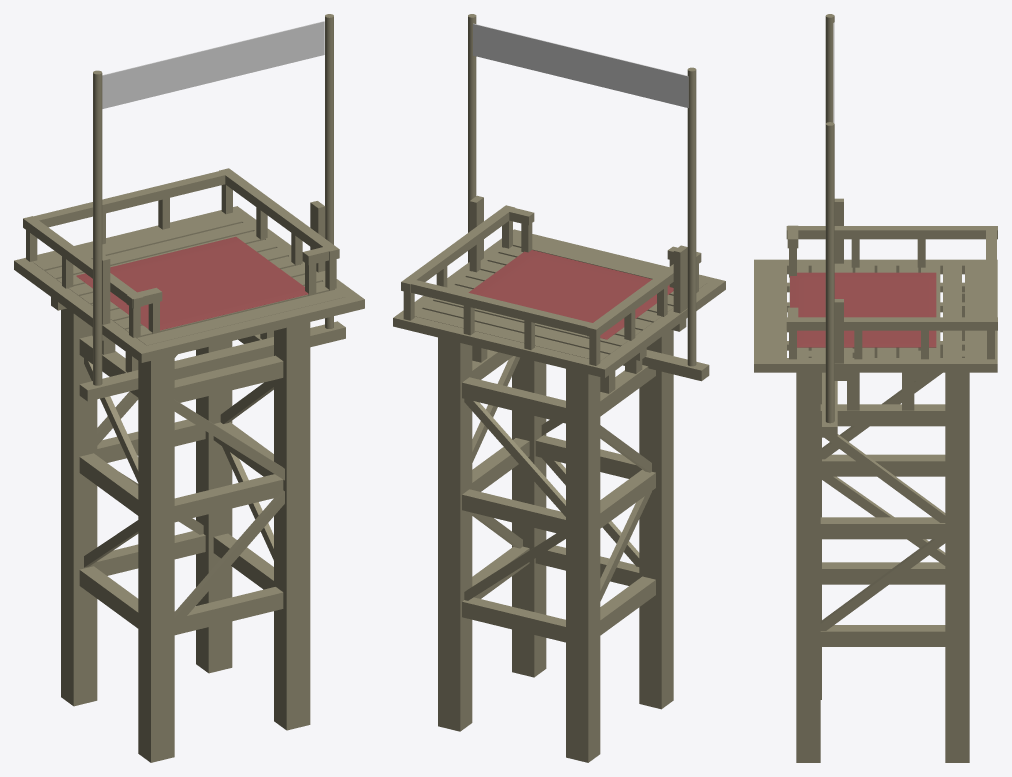
File: goalRough4.fbx
3 renders of one model, left to right at view 1: azimuth 30°, elevation 25°; view 2: azimuth 150°, elevation 25°; view 3: azimuth 270°, elevation 25°, orthographic. The views are drawn at different scales.
Visible parts, largest first — view 1: pCube76; view 2: pCube76; view 3: pCube76.
Boxes of the visible parts, x1=… form: pCube76: x1=14, y1=14, x2=364, y2=762; pCube76: x1=393, y1=14, x2=725, y2=762; pCube76: x1=754, y1=14, x2=997, y2=762.
Size of the model in its own units: 130 by 331 by 111.
